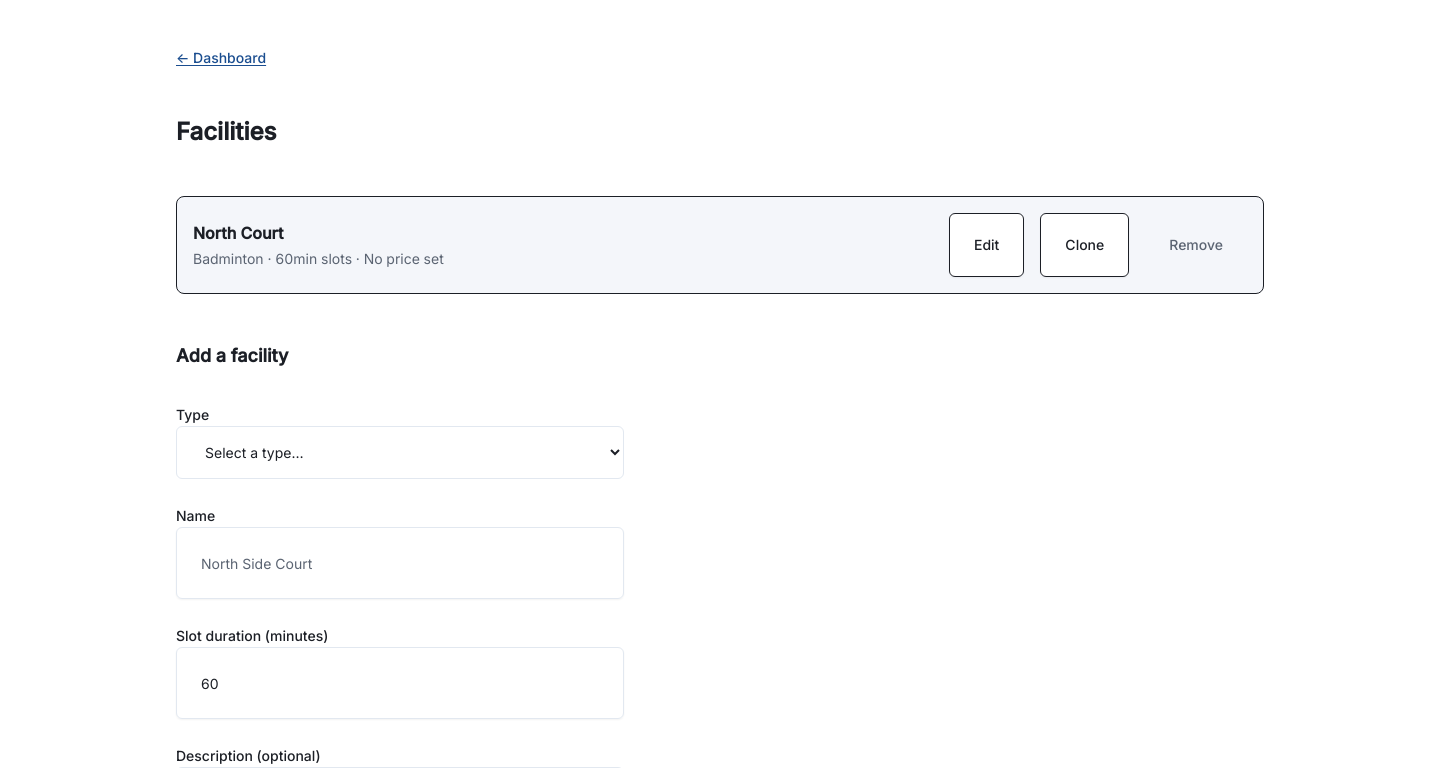
it: TenantFacilities › clone opens dialog with type/duration/schedule pre-filled and name/description empty
What coordinates should you click on to do the following:
click the button "Clone"
I would click on:
 (1085, 245)
Its box is [1040, 213, 1129, 277].
(page scrolled)
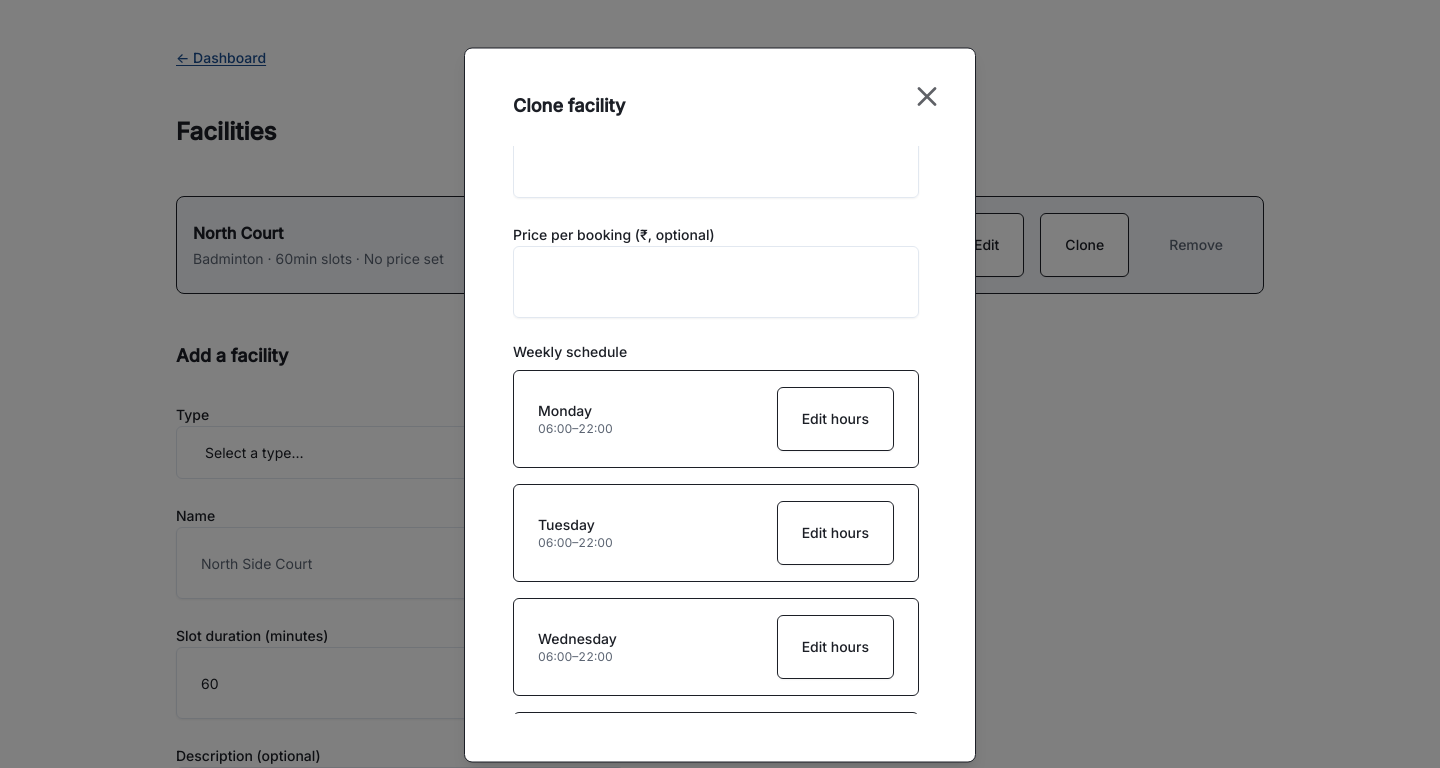
Check: the field labelled "Description (optional)" is empty, box [513, 146, 919, 198]
Check: the 1st text "06:00–22:00" is shown, box [538, 422, 613, 438]
